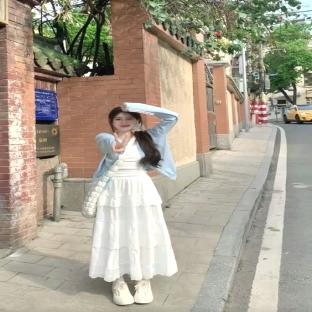Human: (83, 103, 179, 305)
